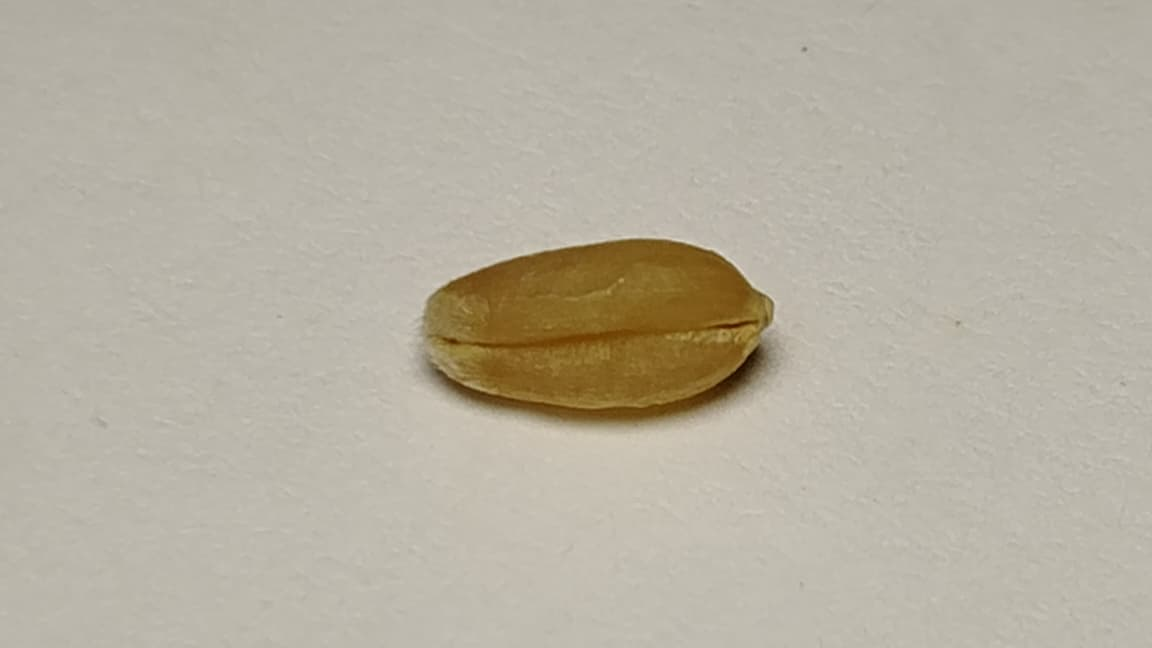healthy: (423, 239, 772, 406)
